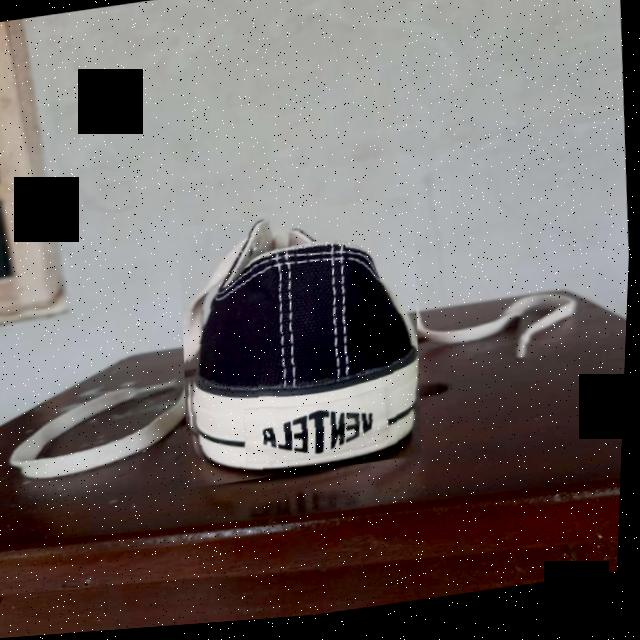shoe: (173, 200, 432, 493)
